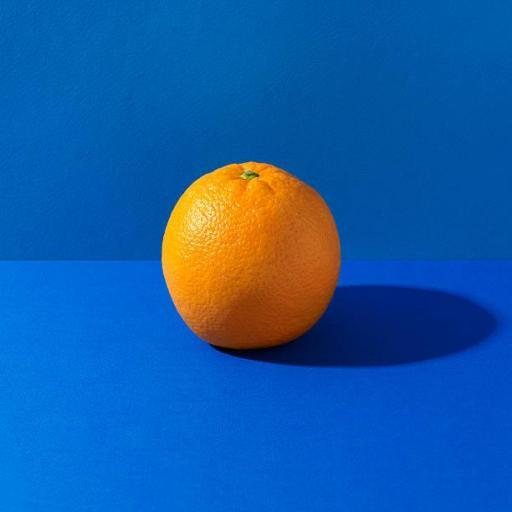orange: (163, 162, 340, 348)
